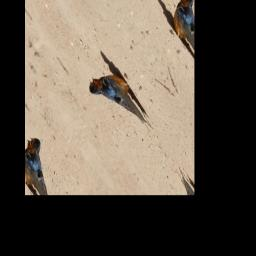Swallow: (84, 60, 155, 152)
